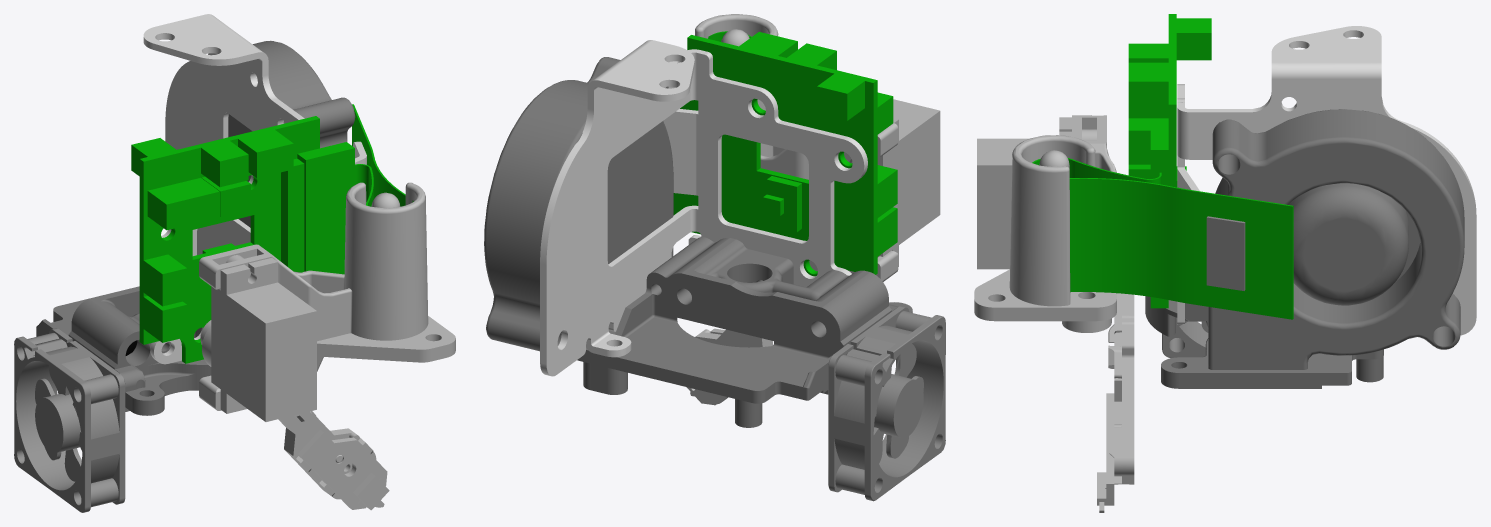
Rendered from head.glb.
3 views of the same model, side by side, from view 1: azimuth 30°, elevation 25°; view 2: azimuth 150°, elevation 25°; view 3: azimuth 270°, elevation 25° (orthographic). The views are drawn at different scales.
Visible parts, largest first — view 1: Node; view 2: Node; view 3: Node.
Boxes of the visible parts, x1,y1,x2,y2 form: Node: (14,14,455,512); Node: (484,14,945,501); Node: (974,14,1476,512).
Bounding box in the file's own units: 3.18 × 3.78 × 3.96.
